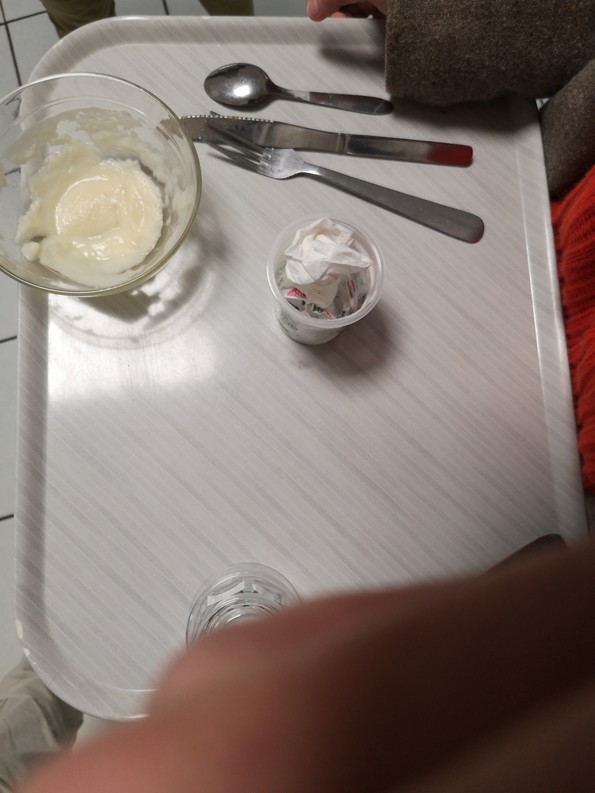cutlery: (172, 58, 498, 256)
orga: (45, 160, 172, 284)
trash: (245, 213, 409, 393)
